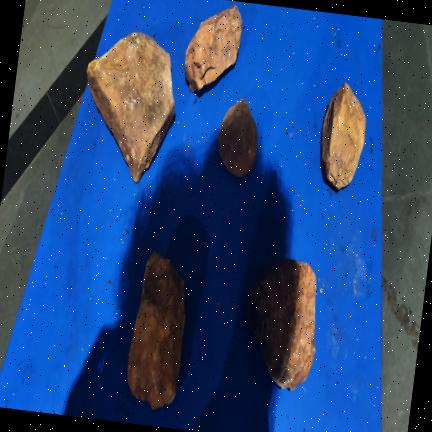Rocks: (86, 32, 173, 182), (246, 259, 315, 389), (127, 253, 184, 408), (184, 6, 241, 92), (320, 83, 365, 190), (217, 99, 257, 177)
